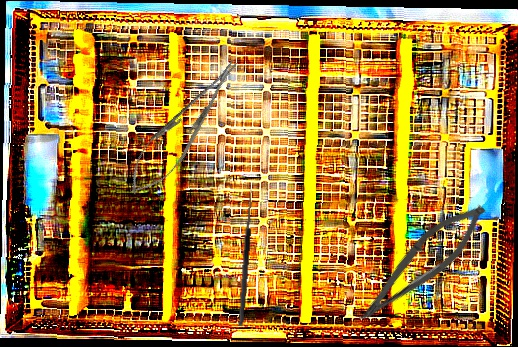Hook Surgical: (231, 188, 254, 327)
Micro Scissor: (349, 190, 496, 340)
Needle Holder: (117, 50, 251, 205)
